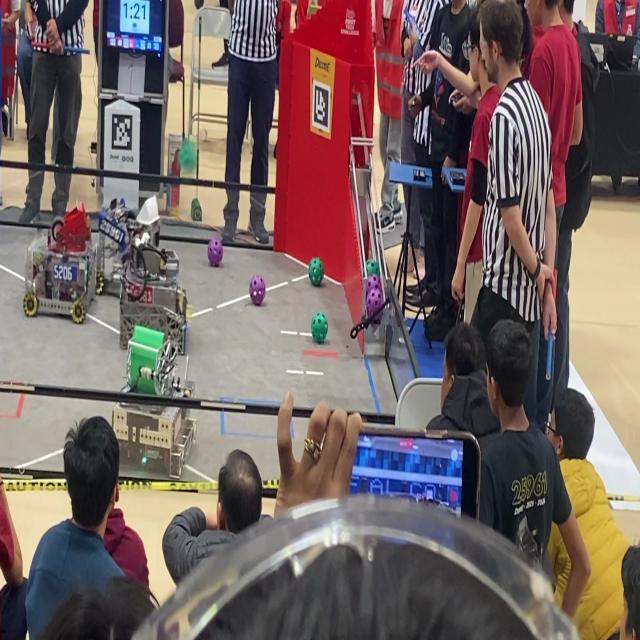artifact_green: (178, 137, 197, 173), (311, 312, 328, 344), (309, 258, 324, 286), (191, 198, 202, 222), (366, 259, 379, 276)
artifact_purple: (366, 289, 384, 324), (208, 237, 223, 267), (250, 276, 265, 305), (366, 274, 381, 295)
